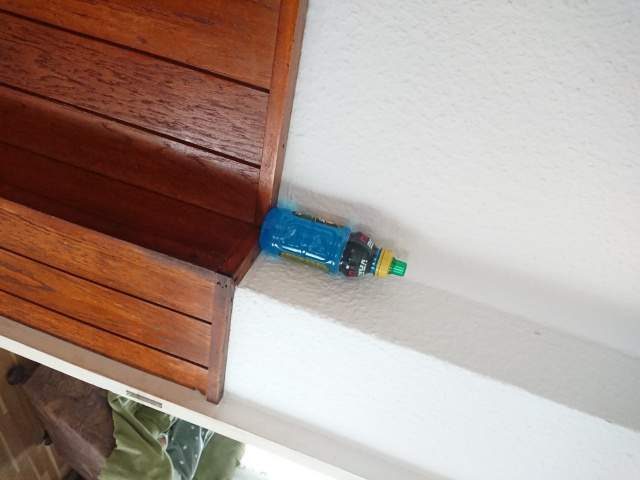Vindi Iso Sport Forest Strawberries 500mL: (257, 203, 408, 279)
